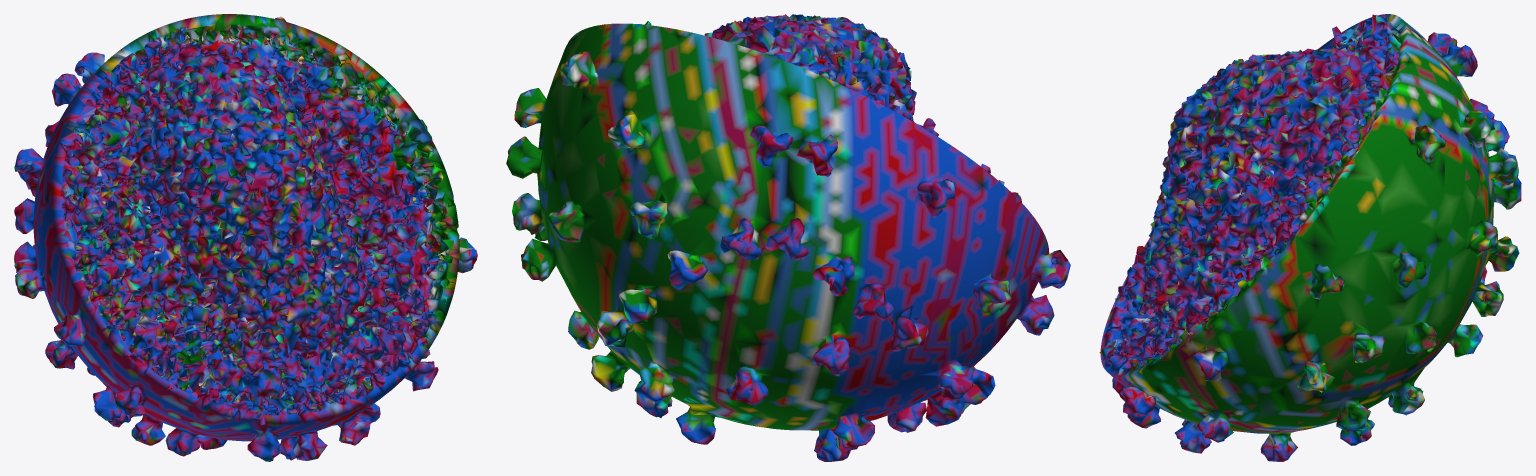
Rendered from hiv-virion.glb.
The picture shows the model from 3 angles, left to right: view 1: azimuth 30°, elevation 25°; view 2: azimuth 150°, elevation 25°; view 3: azimuth 270°, elevation 25°; orthographic projection. The views are drawn at different scales.
Size of the model in its own units: 15.72 by 13.6 by 13.19.
